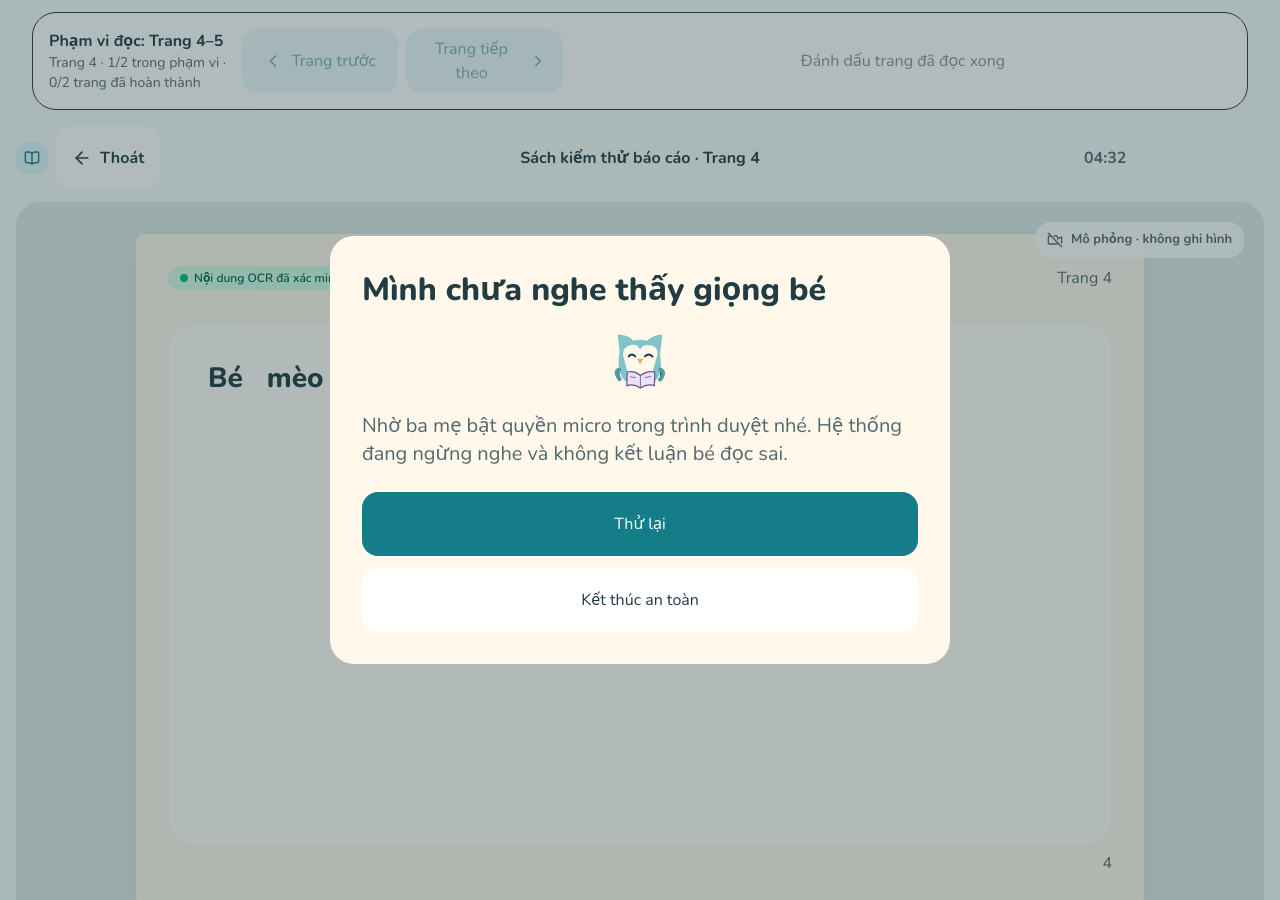
it: ReadingScreen presentation with typed test-local service responses › offers safe-exit confirmation without immediately finishing the session
The width and height of the screenshot is (1280, 900).
Expected: the dialog "Mình chưa nghe thấy giọng bé" is shown, [330,236,950,664]
Click the button "Kết thúc an toàn" at (640, 600), box [362,568,918,632]
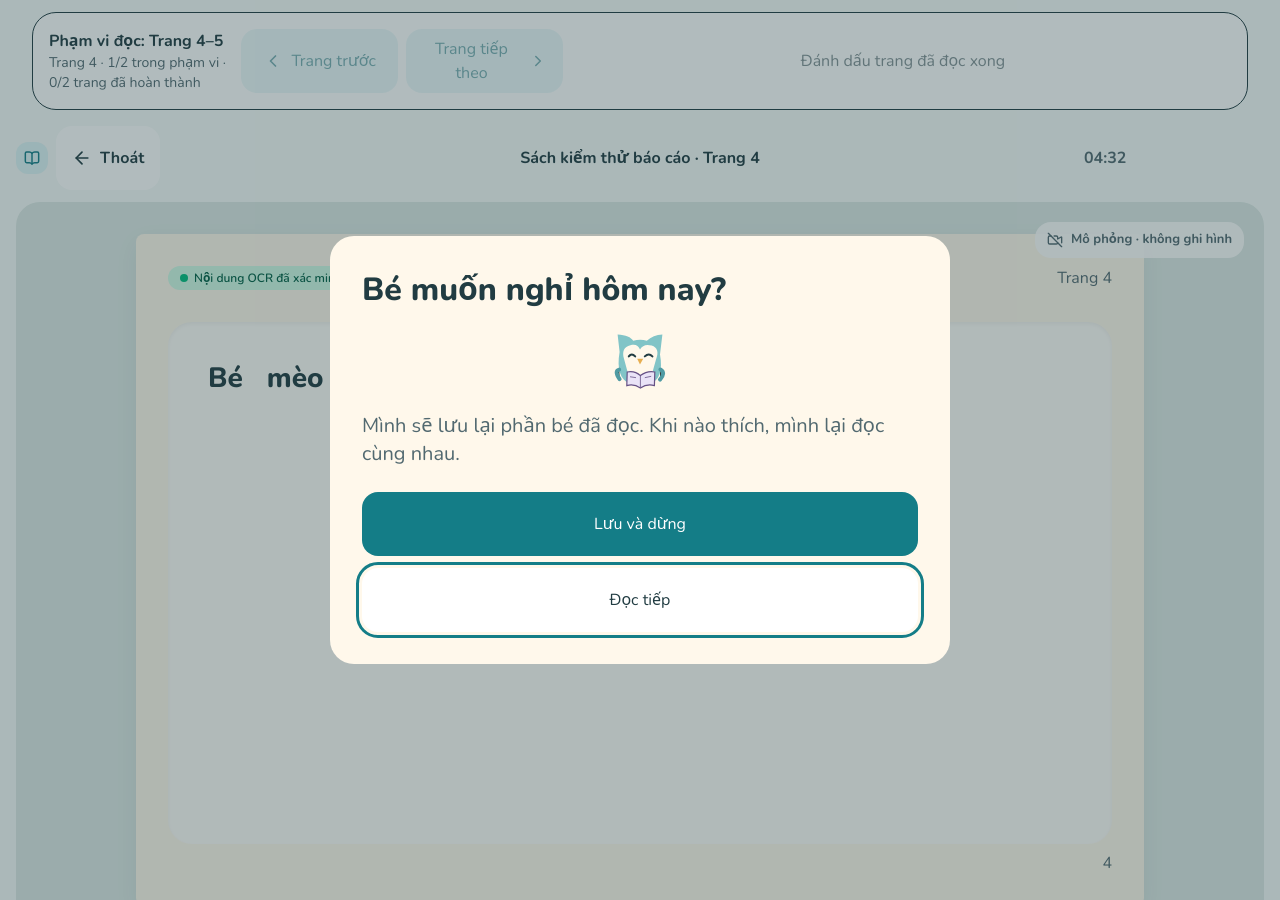
Expected: the dialog "Bé muốn nghỉ hôm nay?" is shown, [330,236,950,664]
